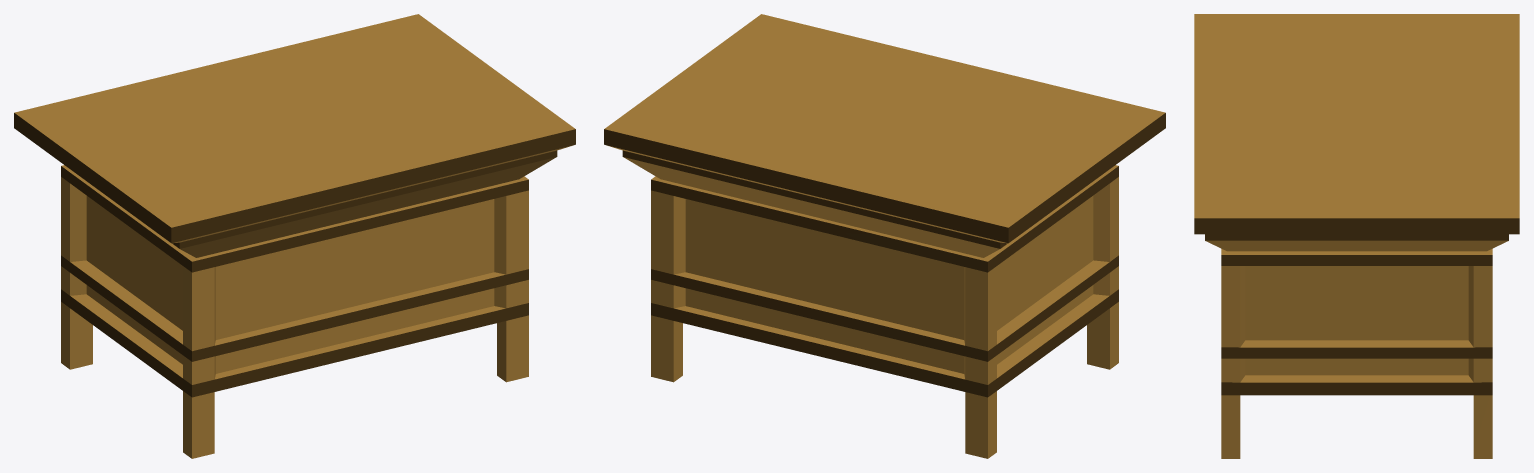
The model's file is crate.fbx.
3 views of the same model, side by side, from view 1: azimuth 30°, elevation 25°; view 2: azimuth 150°, elevation 25°; view 3: azimuth 270°, elevation 25° (orthographic). The views are drawn at different scales.
Parts seen in each view (by area): view 1: Cube; view 2: Cube; view 3: Cube.
Boxes of the visible parts, <box> form: Cube: <box>14,14,575,458</box>; Cube: <box>604,14,1165,458</box>; Cube: <box>1194,14,1519,458</box>.
Size of the model in its own units: 128 by 75.38 by 86.28.
